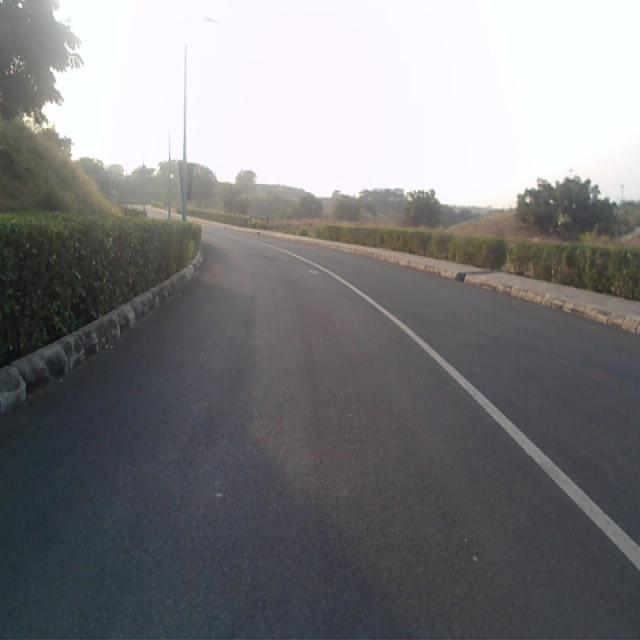lane: (0, 244, 640, 637)
